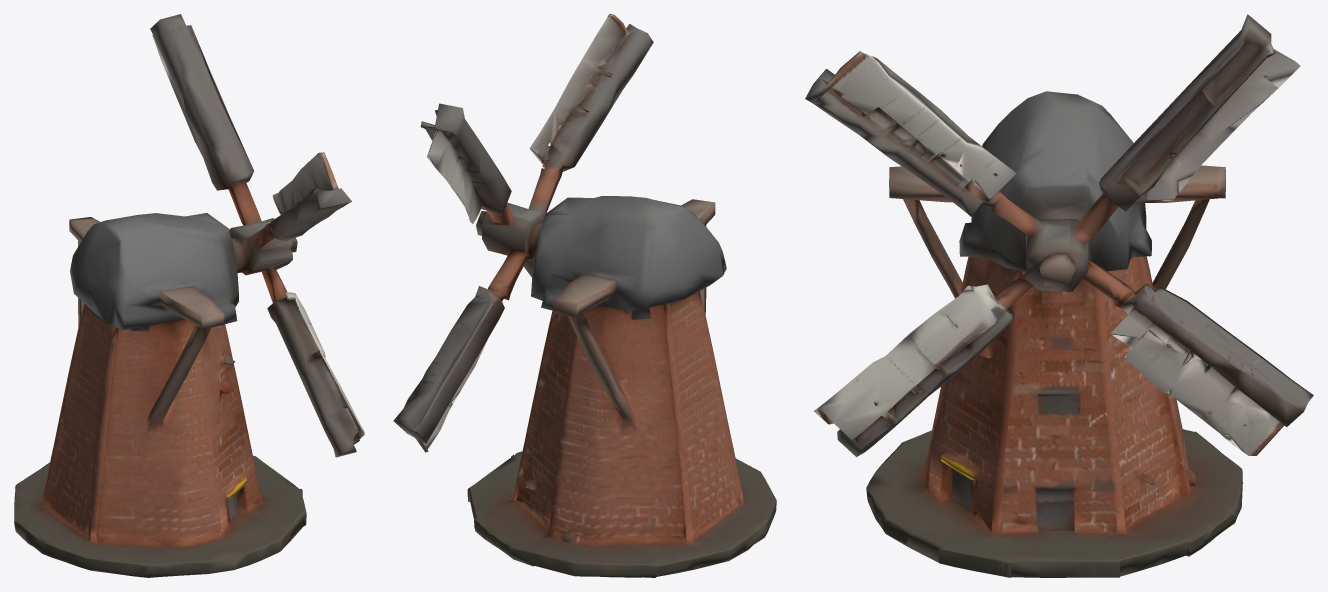
File: hero-windmill.glb
3 views of the same model, side by side, from view 1: azimuth 30°, elevation 25°; view 2: azimuth 150°, elevation 25°; view 3: azimuth 270°, elevation 25° (orthographic). The views are drawn at different scales.
Parts seen in each view (by area): view 1: tripo_node_e2de5cd7-7da3-44f2-a222-dd871f72b514; view 2: tripo_node_e2de5cd7-7da3-44f2-a222-dd871f72b514; view 3: tripo_node_e2de5cd7-7da3-44f2-a222-dd871f72b514.
Part boxes in pixels (x1,y1,x2,y2): tripo_node_e2de5cd7-7da3-44f2-a222-dd871f72b514: [14, 14, 364, 577]; tripo_node_e2de5cd7-7da3-44f2-a222-dd871f72b514: [393, 14, 776, 577]; tripo_node_e2de5cd7-7da3-44f2-a222-dd871f72b514: [805, 14, 1313, 577].
Bounding box in the file's own units: 0.6418 × 1 × 0.8602.
Materials: 1 (1 with a texture image).
